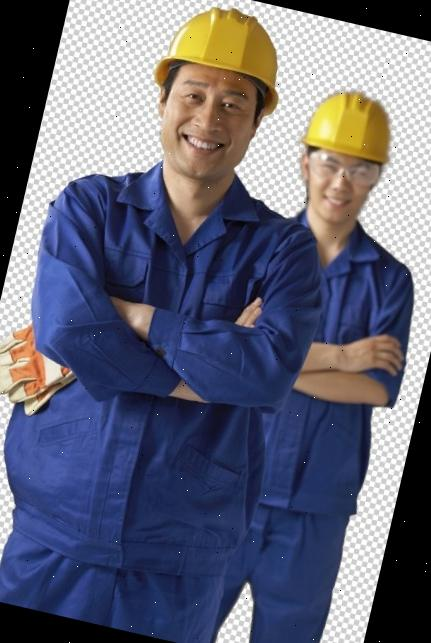helmet: (149, 0, 300, 109), (292, 77, 400, 180)
wear: (0, 179, 313, 587), (210, 228, 412, 514)
